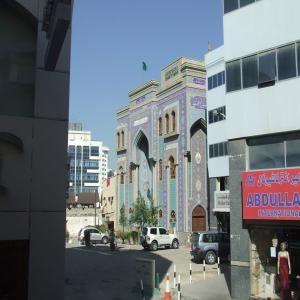Vehicle-registration-plate: (140, 238, 143, 241), (194, 247, 197, 250)
